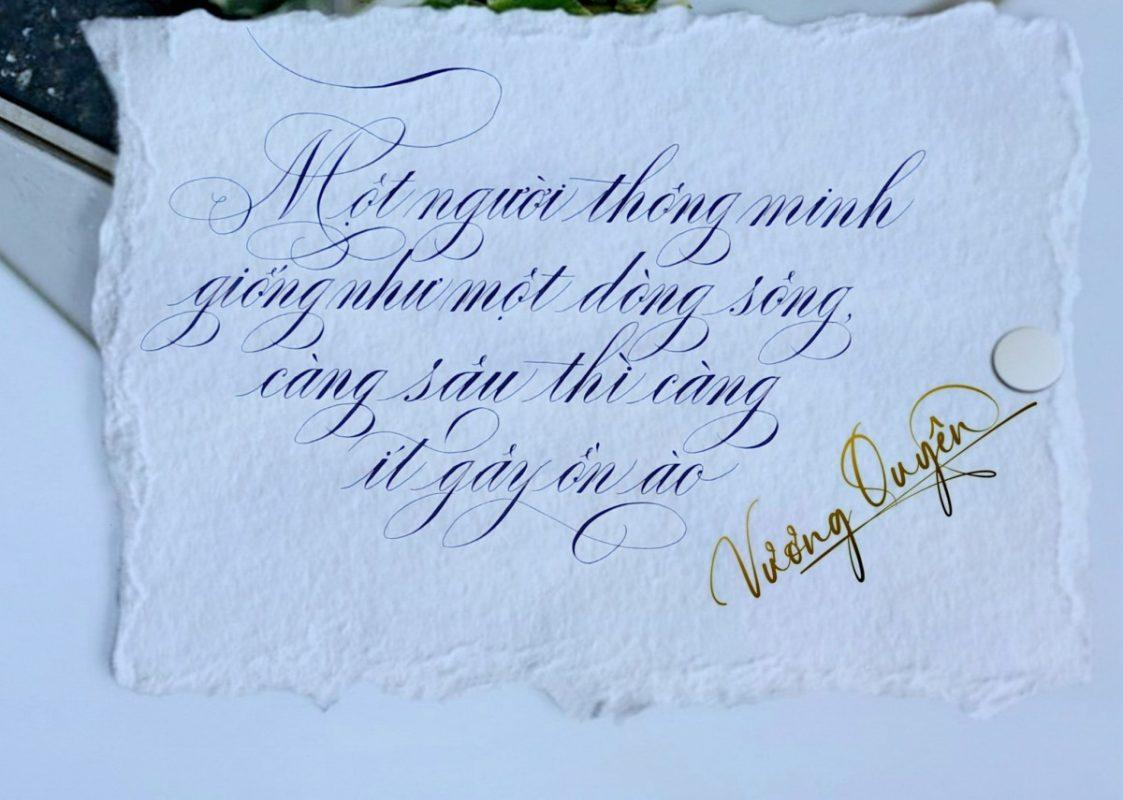text: (160, 31, 929, 274), (133, 238, 861, 367), (701, 379, 1040, 619), (226, 314, 786, 459), (330, 404, 744, 576)
